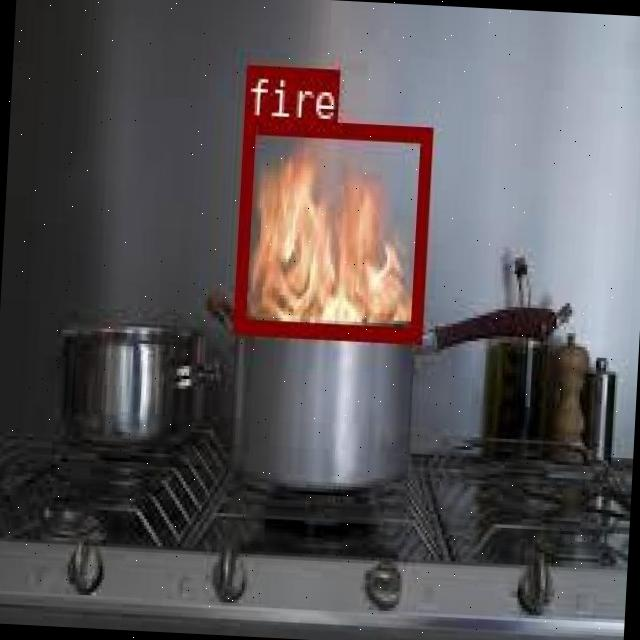fire: (230, 116, 432, 340)
